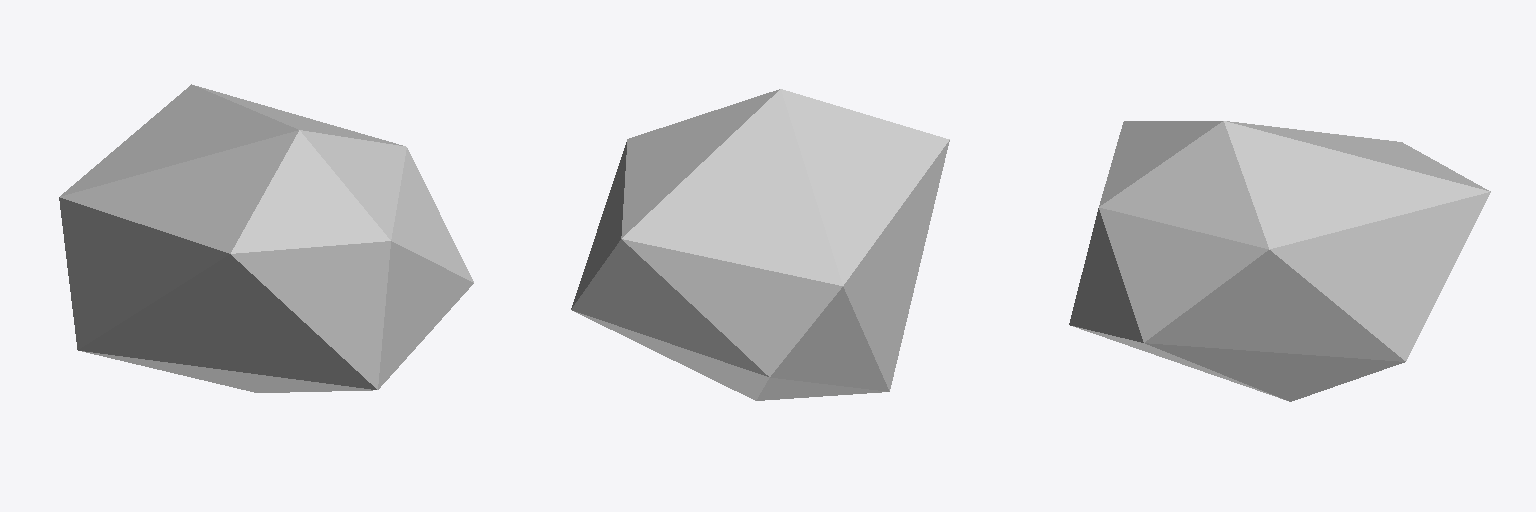
File: stone2.obj
The picture shows the model from 3 angles: view 1: azimuth 30°, elevation 25°; view 2: azimuth 150°, elevation 25°; view 3: azimuth 270°, elevation 25°; orthographic projection.
Visible parts, largest first — view 1: Icosphere; view 2: Icosphere; view 3: Icosphere.
Boxes of the visible parts, x1,y1,x2,y2 form: Icosphere: [59, 84, 473, 392]; Icosphere: [571, 89, 949, 400]; Icosphere: [1069, 121, 1490, 401].
Bounding box in the file's own units: 0.1019 × 0.0926 × 0.1241.